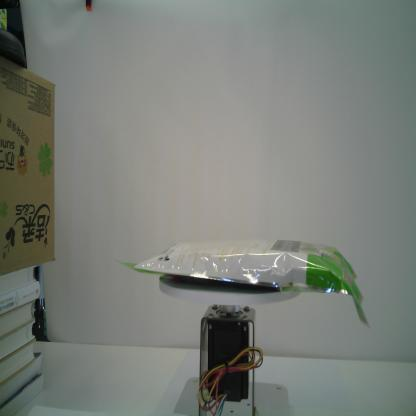Dried Food: (109, 233, 371, 329)
